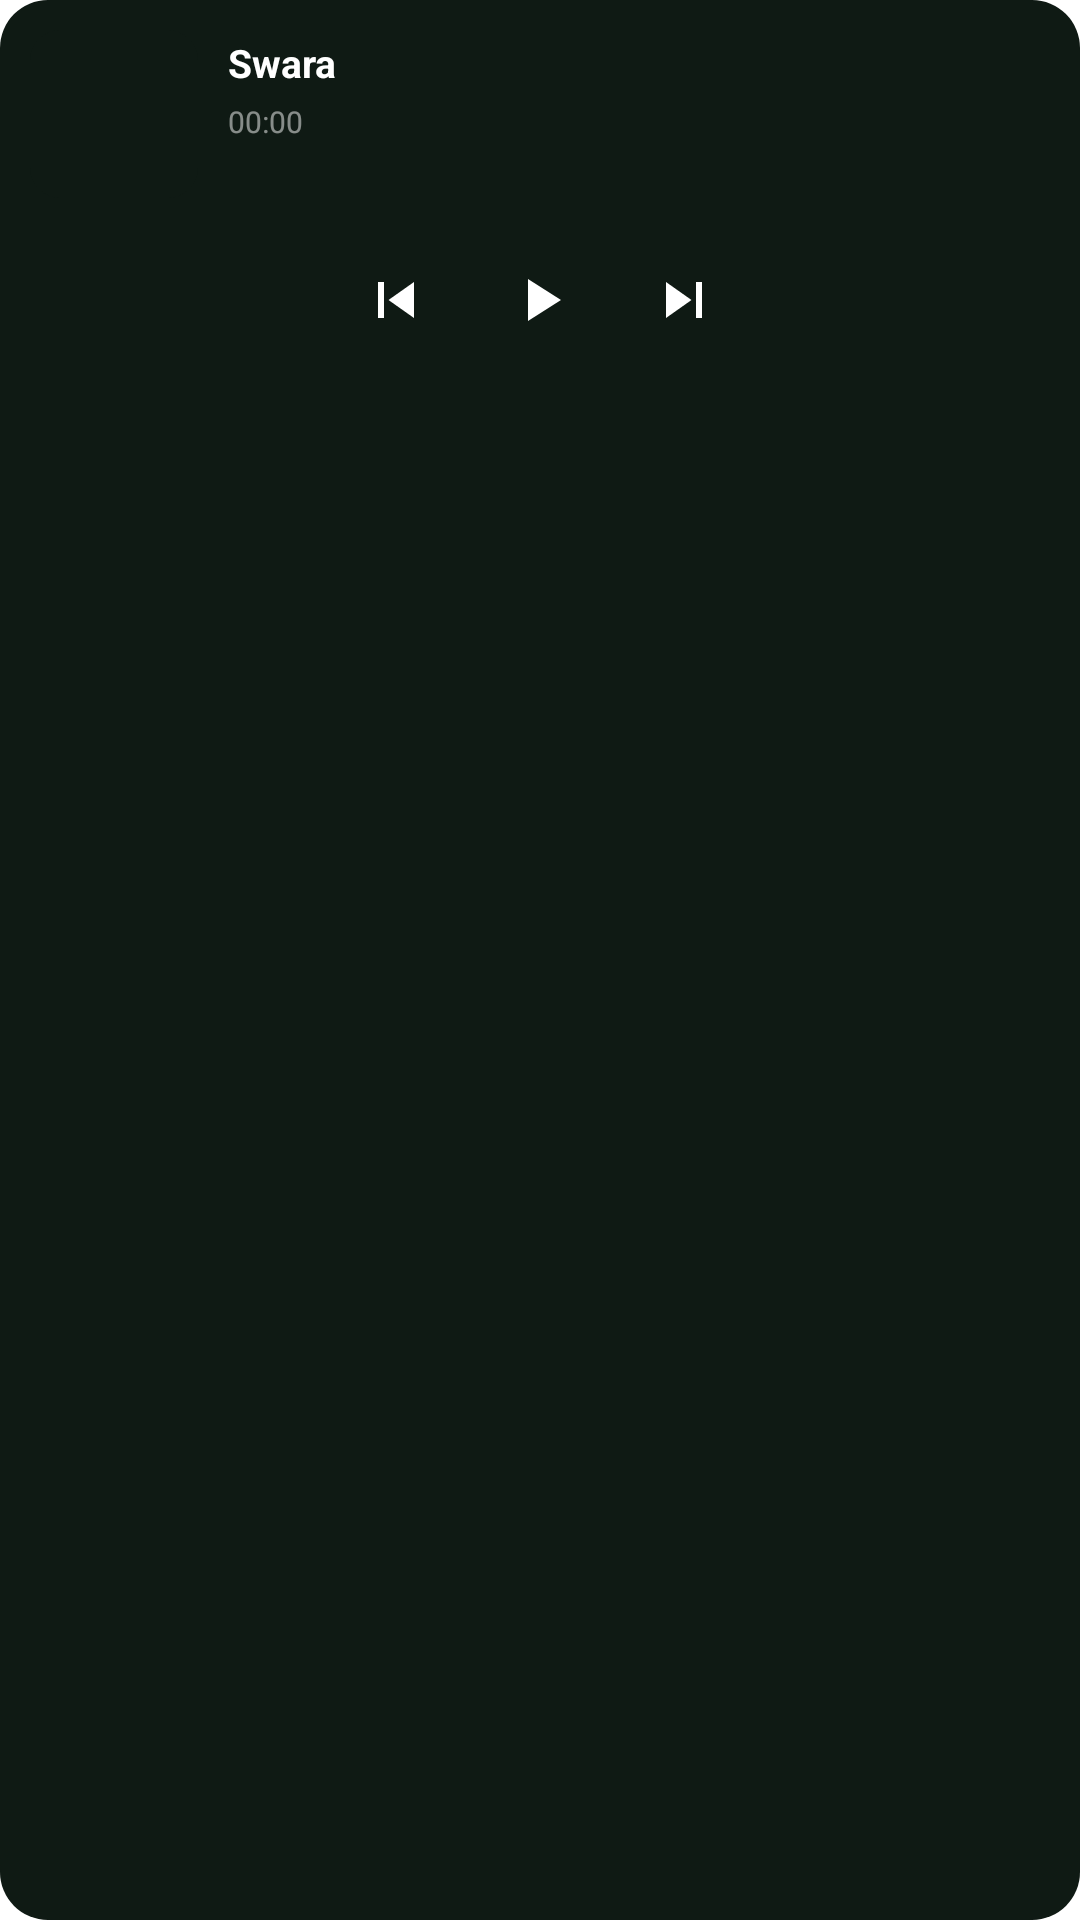

Named icons in this screenshot (1080 × 1920) and their centers, (x,y):
Next song: (684,300)
Play or pause: (544,300)
Previous song: (396,300)
